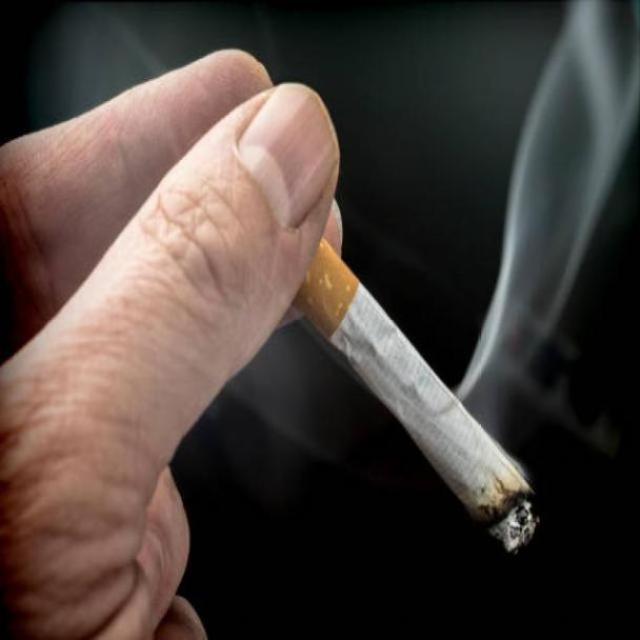rokok: (280, 230, 548, 558)
